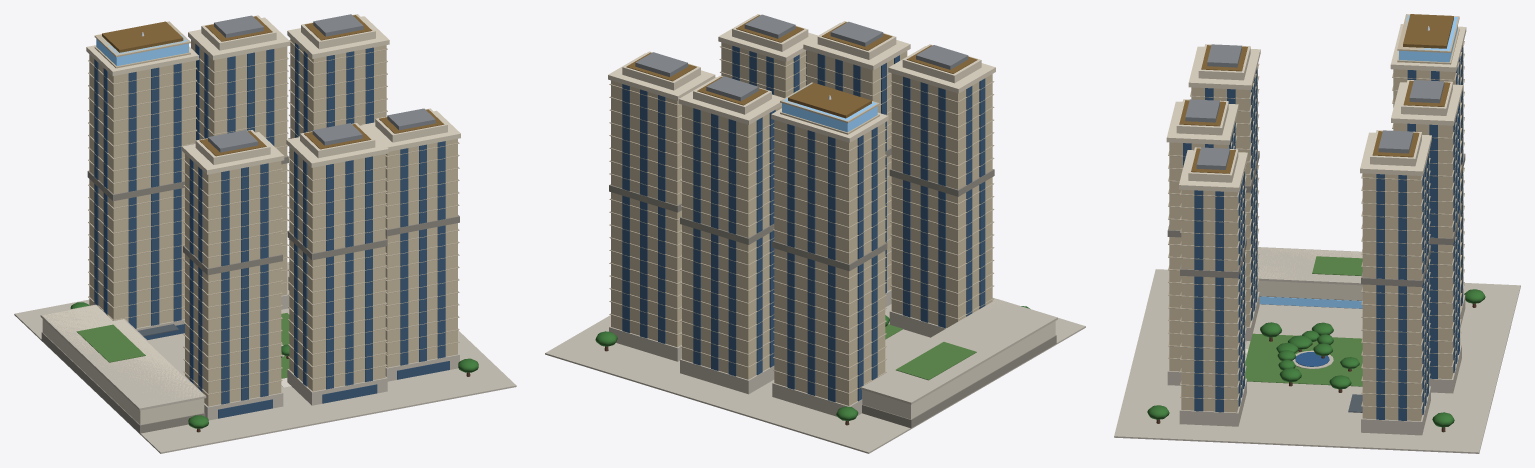
The model's file is lotte-castle-goldpark.glb.
The picture shows the model from 3 angles, left to right: view 1: azimuth 30°, elevation 25°; view 2: azimuth 150°, elevation 25°; view 3: azimuth 270°, elevation 25°; orthographic projection. The views are drawn at different scales.
Bounding box in the file's own units: 189 × 145 × 177.
